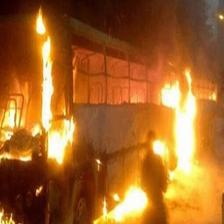fire: (12, 15, 206, 221)
